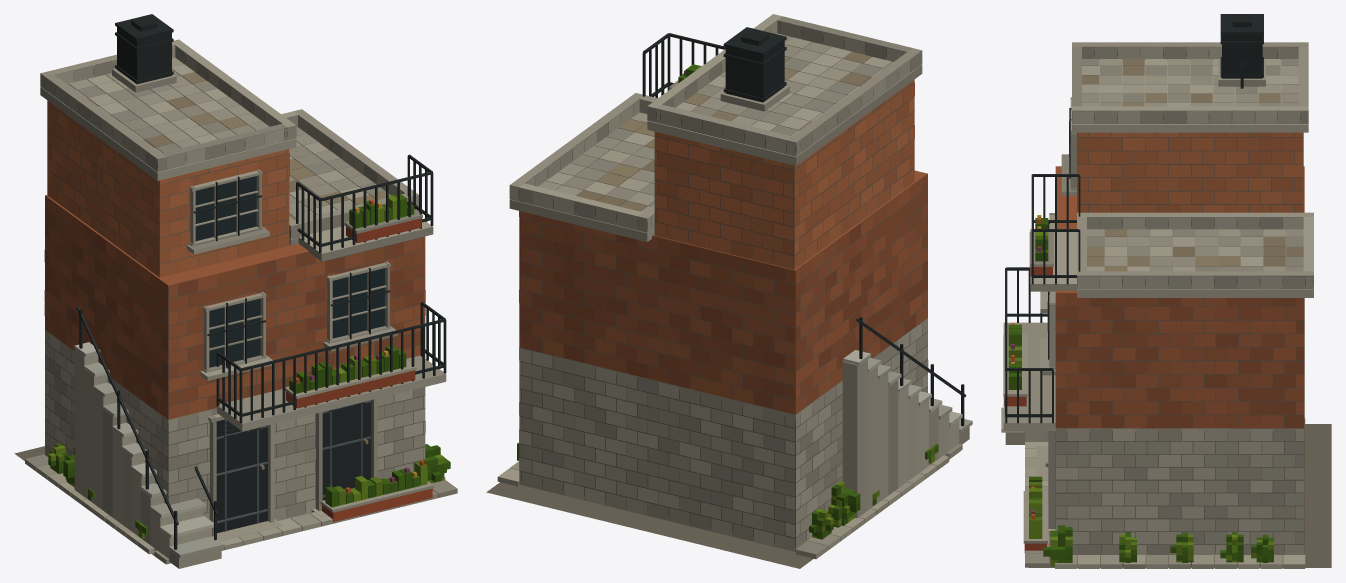
File: SM_Mapa_072.fbx
3 renders of one model, left to right at view 1: azimuth 30°, elevation 25°; view 2: azimuth 150°, elevation 25°; view 3: azimuth 270°, elevation 25°, orthographic. The views are drawn at different scales.
Visible parts, largest first — view 1: SM_Mapa_072; view 2: SM_Mapa_072; view 3: SM_Mapa_072.
Part boxes in pixels (left/top/right/bottom): SM_Mapa_072: left=14, top=14, right=457, bottom=568; SM_Mapa_072: left=486, top=14, right=972, bottom=568; SM_Mapa_072: left=1001, top=14, right=1331, bottom=568.
Bounding box in the file's own units: 8 × 7.56 × 11.31.
